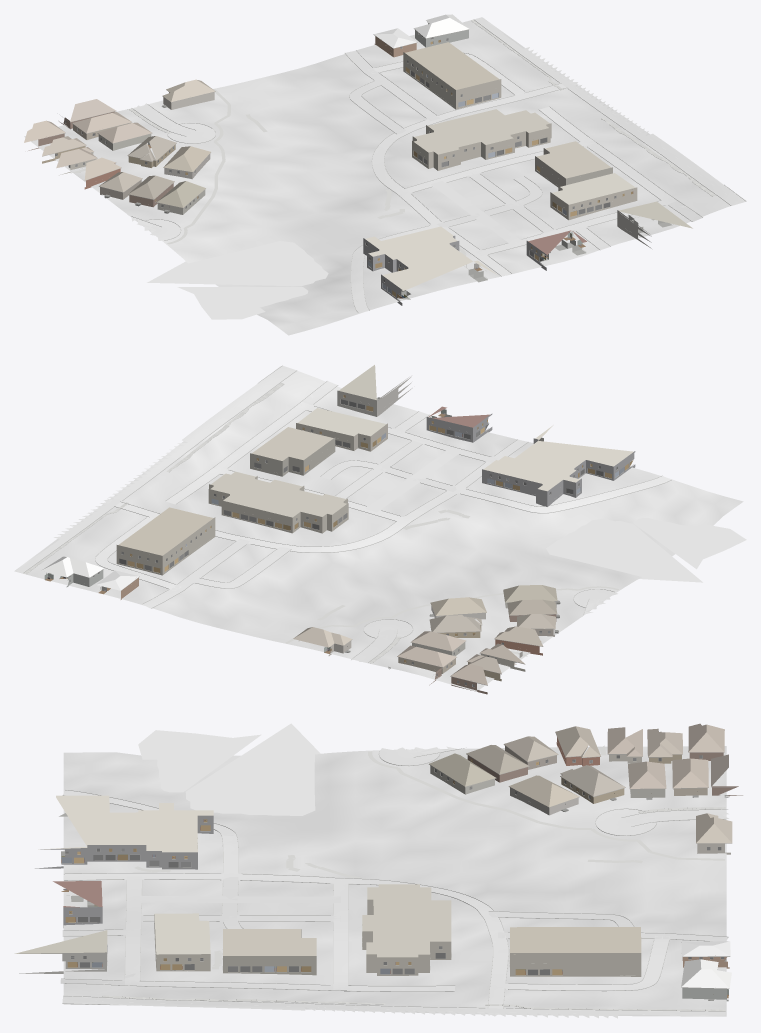
The picture shows the model from 3 angles, top to bottom: view 1: azimuth 30°, elevation 25°; view 2: azimuth 150°, elevation 25°; view 3: azimuth 270°, elevation 25°; orthographic projection. The views are drawn at different scales.
Visible parts, largest first — view 1: ground, concrete, roof_flat, roof, water, wall_com, curb, asphalt, wall, walk, wall_stucco, detail (+3 smaller); view 2: ground, concrete, roof_flat, wall_com, roof, water, curb, asphalt, walk, wall, glass_lit, detail (+2 smaller); view 3: ground, roof_flat, concrete, roof, water, wall_com, curb, asphalt, walk, wall, wall_stucco, detail (+3 smaller).
Part boxes in pixels (left/top/right/bottom): ground: left=24, top=17, right=746, bottom=335; concrete: left=131, top=50, right=702, bottom=313; roof_flat: left=365, top=42, right=692, bottom=290; roof: left=24, top=14, right=469, bottom=207; water: left=147, top=241, right=328, bottom=319; wall_com: left=363, top=52, right=651, bottom=305; curb: left=131, top=19, right=745, bottom=312; asphalt: left=474, top=18, right=745, bottom=205; wall: left=28, top=36, right=416, bottom=207; walk: left=71, top=19, right=715, bottom=255; wall_stucco: left=59, top=23, right=468, bottom=214; detail: left=42, top=22, right=673, bottom=299; ground: left=14, top=366, right=743, bottom=691; concrete: left=95, top=381, right=670, bottom=661; roof_flat: left=118, top=365, right=633, bottom=555; wall_com: left=116, top=376, right=635, bottom=575; roof: left=41, top=556, right=557, bottom=685; water: left=546, top=518, right=746, bottom=582; curb: left=23, top=365, right=671, bottom=662; asphalt: left=16, top=366, right=296, bottom=572; walk: left=24, top=382, right=618, bottom=663; wall: left=120, top=578, right=556, bottom=694; glass_lit: left=127, top=395, right=633, bottom=662; detail: left=46, top=395, right=630, bottom=687; ground: left=63, top=746, right=726, bottom=1016; roof_flat: left=14, top=795, right=641, bottom=957; concrete: left=60, top=746, right=728, bottom=1008; roof: left=429, top=723, right=732, bottom=988; water: left=138, top=723, right=320, bottom=815; wall_com: left=19, top=815, right=641, bottom=976; curb: left=61, top=747, right=728, bottom=1011; asphalt: left=62, top=996, right=725, bottom=1018; walk: left=102, top=745, right=725, bottom=1011; wall: left=467, top=737, right=742, bottom=968; wall_stucco: left=430, top=754, right=730, bottom=1001; detail: left=62, top=732, right=733, bottom=1000.
Bounding box in the file's own units: 280 × 17.26 × 276.
